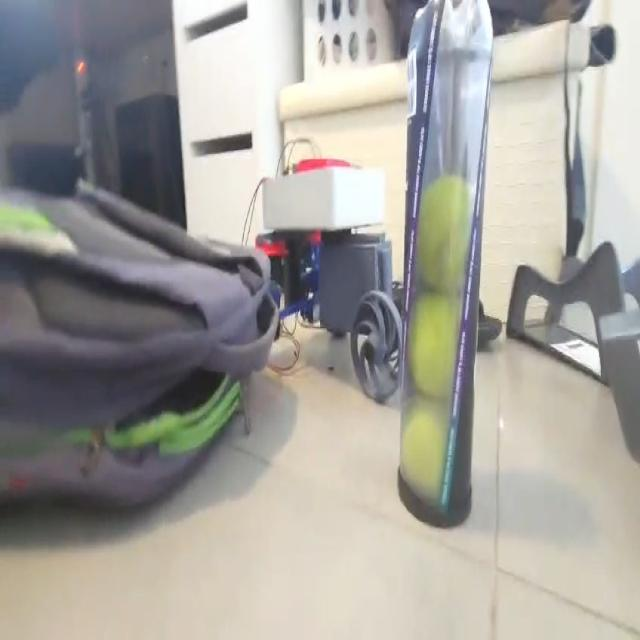Robot: (255, 157, 402, 404)
